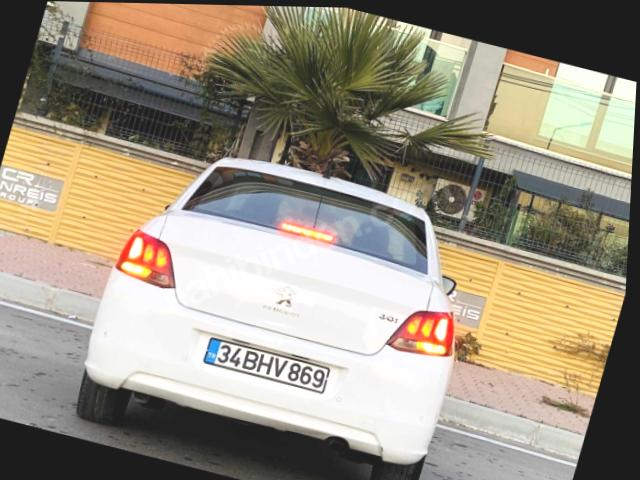plaka: (203, 337, 329, 393)
